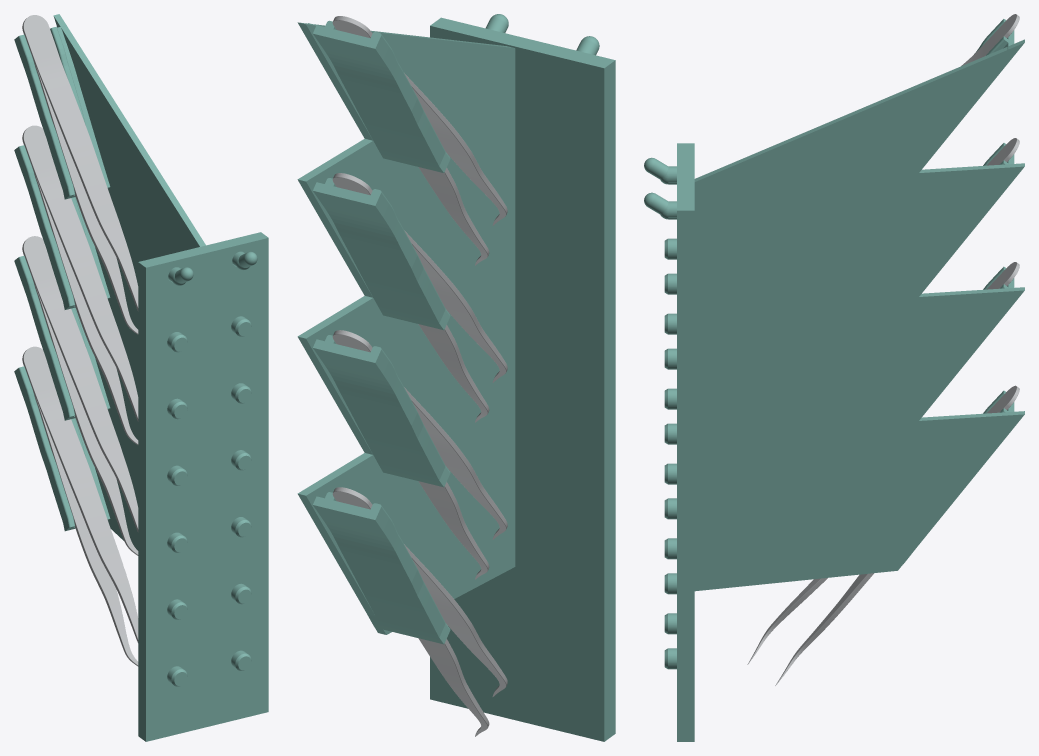
File: part-solder-modules-tweezers__v8__long-body-cradle__fit-e586ab4ff6__loaded.glb
3 renders of one model, left to right at view 1: azimuth 30°, elevation 25°; view 2: azimuth 150°, elevation 25°; view 3: azimuth 270°, elevation 25°, orthographic. The views are drawn at different scales.
Parts seen in each view (by area): view 1: holder, tool-1, tool-3, tool-4, tool-2; view 2: holder, tool-4, tool-3, tool-2, tool-1; view 3: holder, tool-4, tool-1.
Part boxes in pixels (box(x1,y1,x2,y2)): holder: box(14, 14, 268, 741); tool-1: box(22, 15, 138, 334); tool-3: box(22, 236, 138, 555); tool-4: box(22, 346, 138, 666); tool-2: box(22, 125, 138, 444); holder: box(297, 14, 615, 741); tool-4: box(332, 487, 507, 736); tool-3: box(332, 330, 507, 579); tool-2: box(332, 173, 507, 422); tool-1: box(332, 16, 507, 265); holder: box(644, 19, 1024, 741); tool-4: box(747, 385, 1019, 685); tool-1: box(961, 14, 1019, 65).
Bounding box in the file's own units: 0.0488 × 0.2304 × 0.117.
